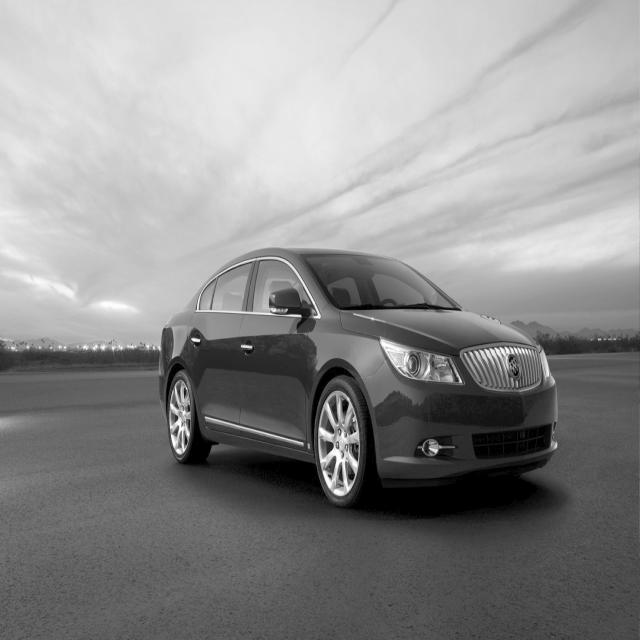car: (157, 245, 558, 508)
